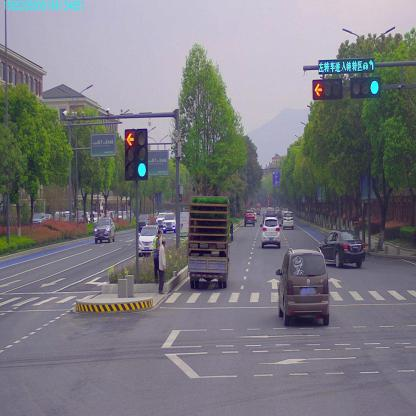traffic-light: (318, 58, 375, 73), (312, 79, 340, 100), (352, 78, 379, 97)
